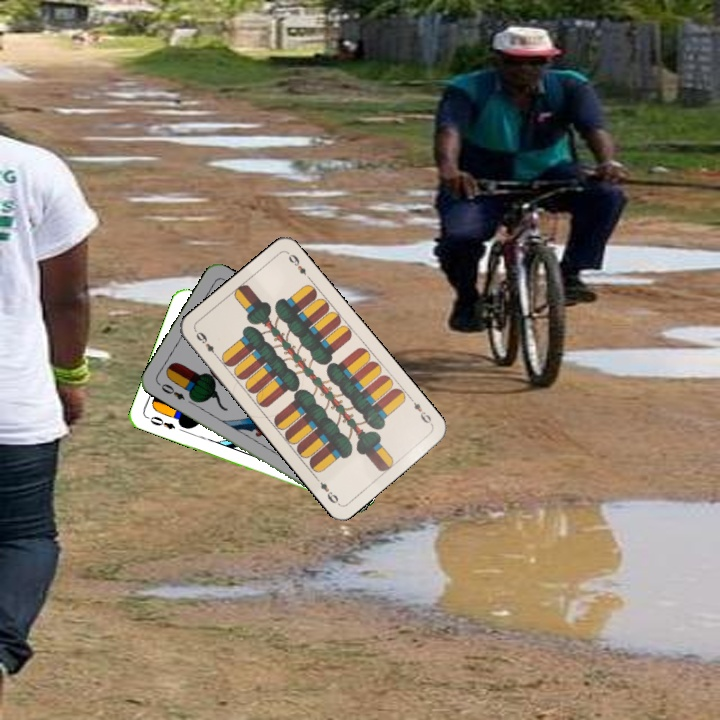E9: (191, 327, 221, 361), (406, 394, 435, 428)
EO: (154, 379, 187, 402), (143, 412, 178, 432)
